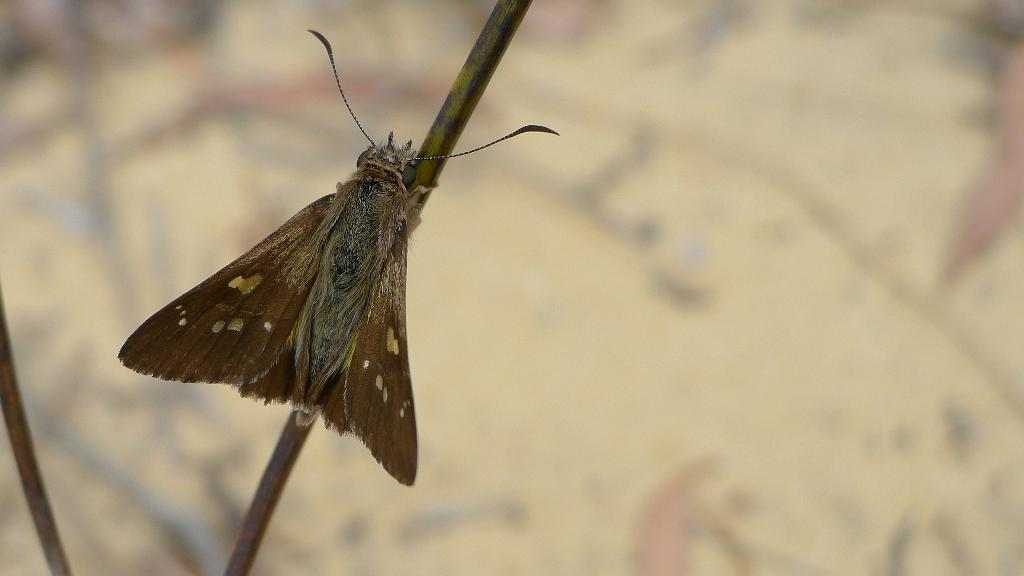Butterfly: (102, 121, 466, 497)
